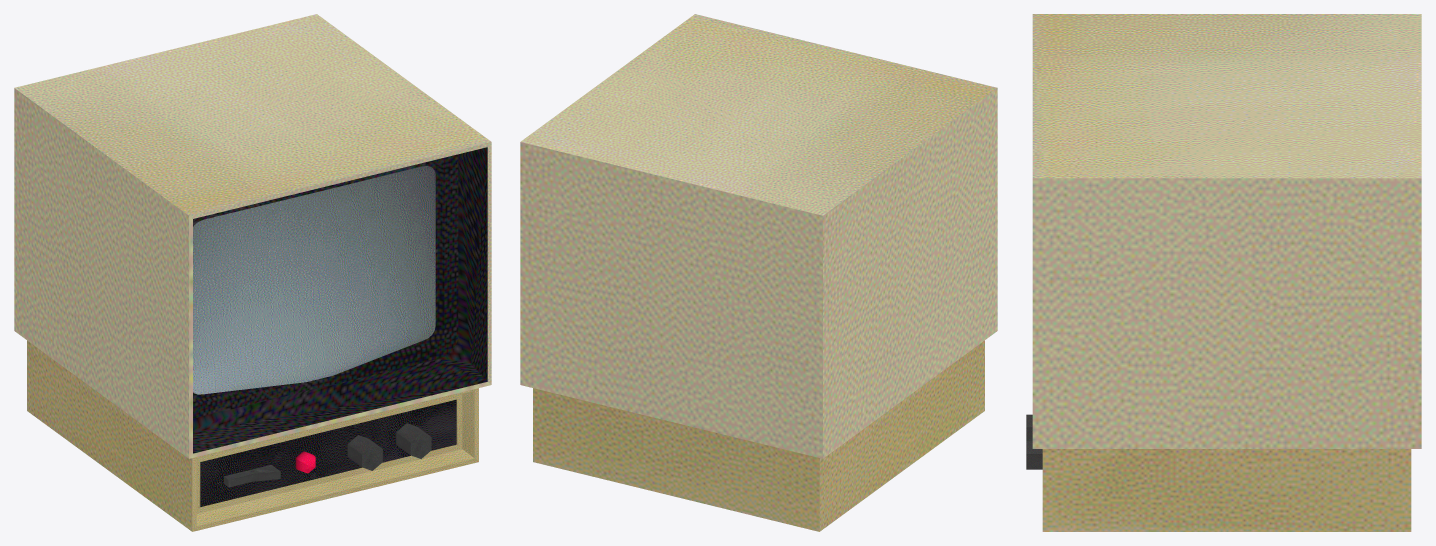
The model's file is monitorSmall.glb.
3 renders of one model, left to right at view 1: azimuth 30°, elevation 25°; view 2: azimuth 150°, elevation 25°; view 3: azimuth 270°, elevation 25°, orthographic. The views are drawn at different scales.
Visible parts, largest first — view 1: ComputerSmall; view 2: ComputerSmall; view 3: ComputerSmall.
Part boxes in pixels (x1,y1,x2,y2): ComputerSmall: [14, 14, 491, 531]; ComputerSmall: [520, 14, 997, 531]; ComputerSmall: [1026, 14, 1421, 531].
Bounding box in the file's own units: 1.67 × 1.69 × 1.69.
1 material, 1 textured.
